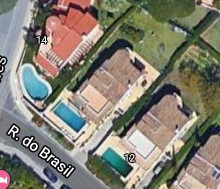pool: (20, 70, 52, 99), (55, 103, 82, 129), (105, 149, 133, 173)
